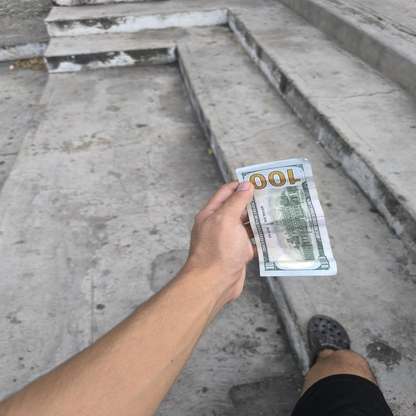one_hundred-back: (232, 158, 341, 279)
